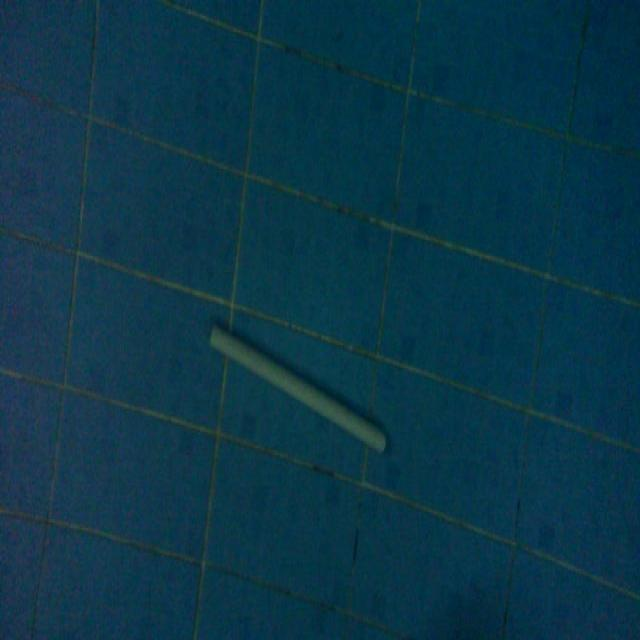Cube: (207, 316, 388, 457)
